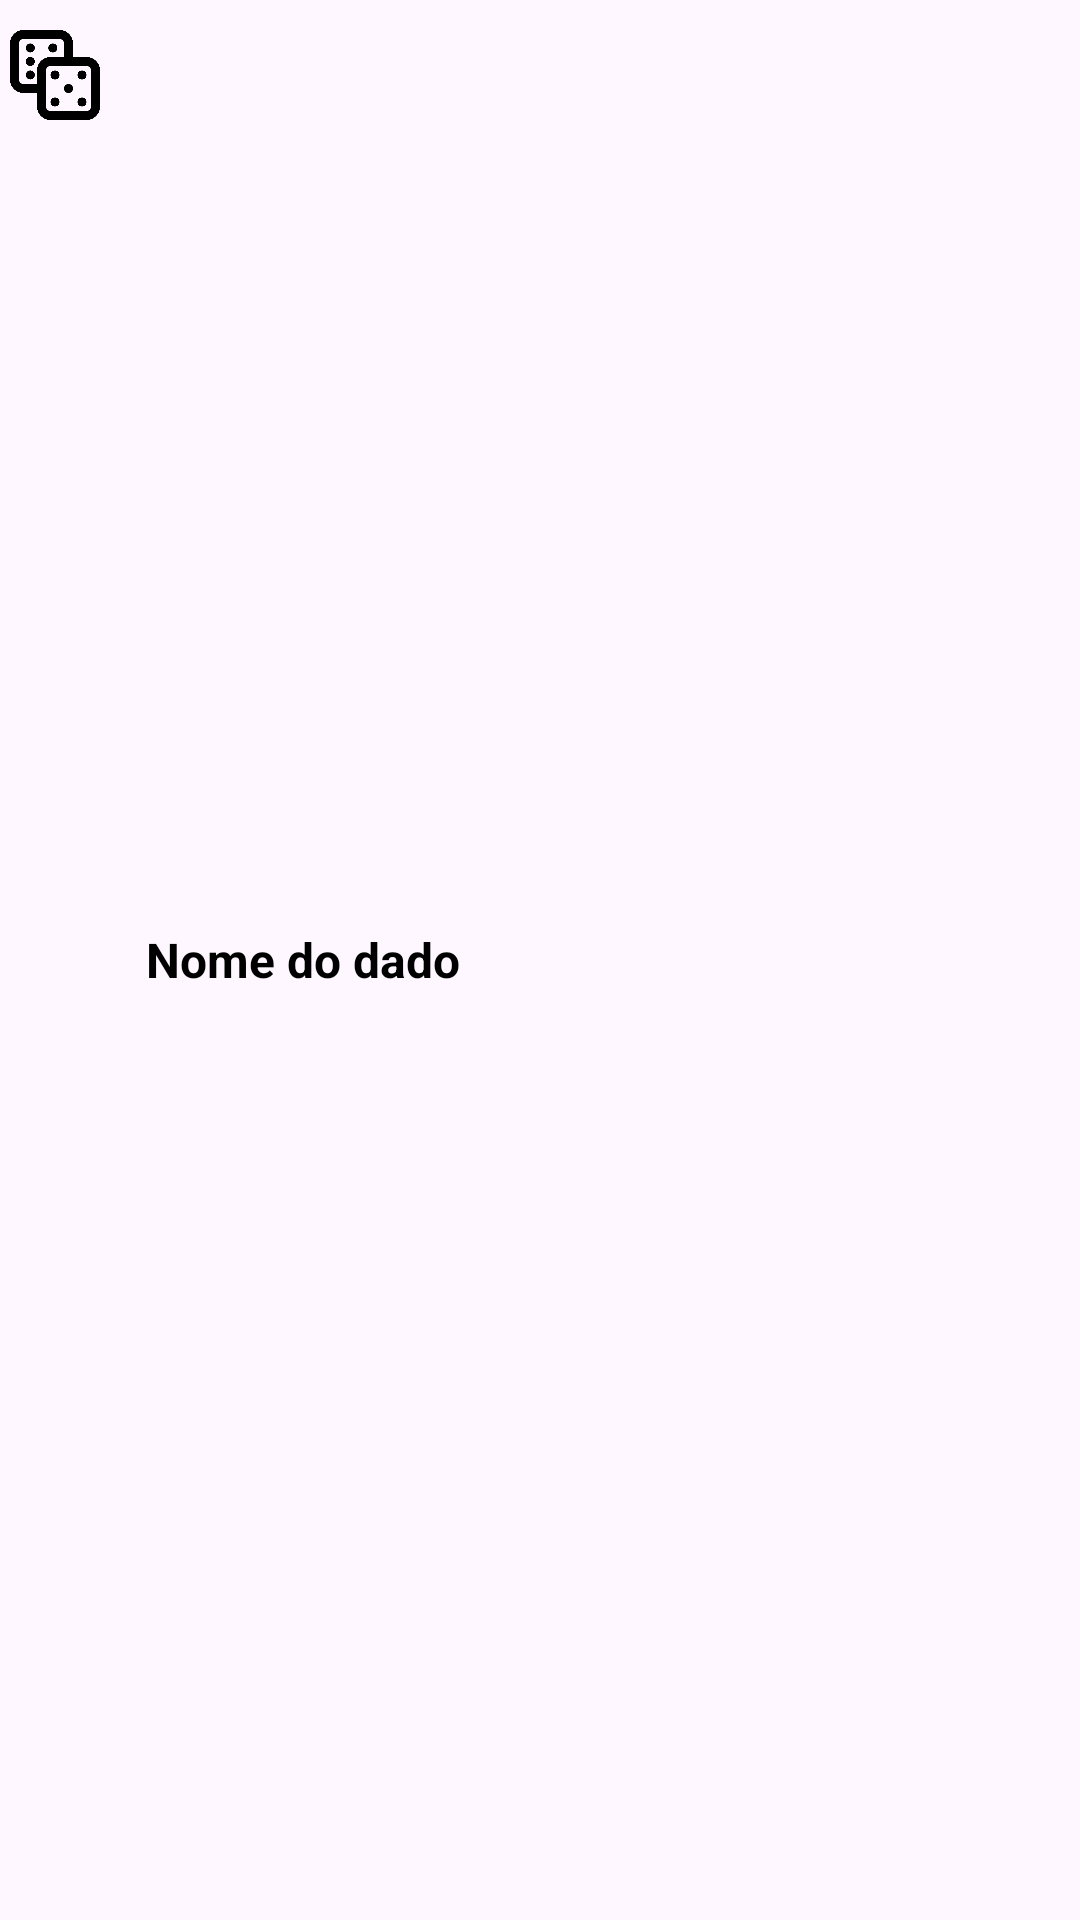

Icons on this 1080 × 1920 Android screen, each with its box as (x1, y1, x2, y2):
Rolar dado: (10, 30, 100, 120)
